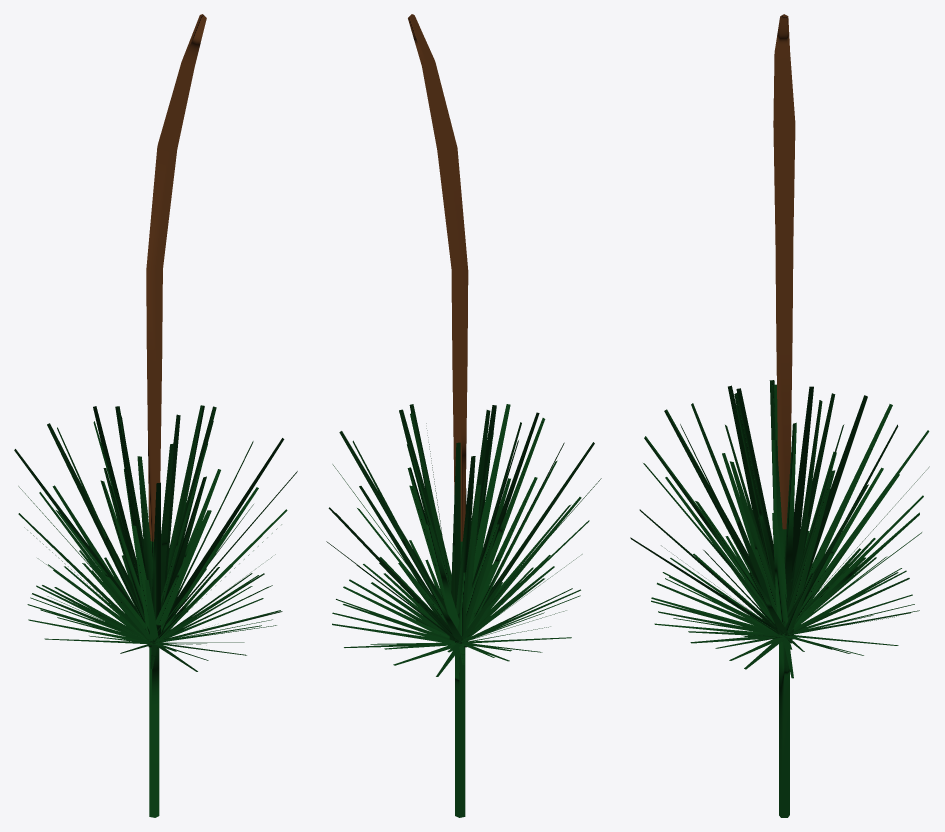
File: DesertSpoon_LOD0.obj
3 views of the same model, side by side, from view 1: azimuth 30°, elevation 25°; view 2: azimuth 150°, elevation 25°; view 3: azimuth 270°, elevation 25° (orthographic). The views are drawn at different scales.
Parts seen in each view (by area): view 1: DesertSpoon_LOD0; view 2: DesertSpoon_LOD0; view 3: DesertSpoon_LOD0.
Part boxes in pixels (bbox=[...]): DesertSpoon_LOD0: bbox=[14, 14, 297, 817]; DesertSpoon_LOD0: bbox=[326, 14, 601, 817]; DesertSpoon_LOD0: bbox=[630, 14, 929, 817].
Size of the model in its own units: 91.38 by 278 by 91.57.
